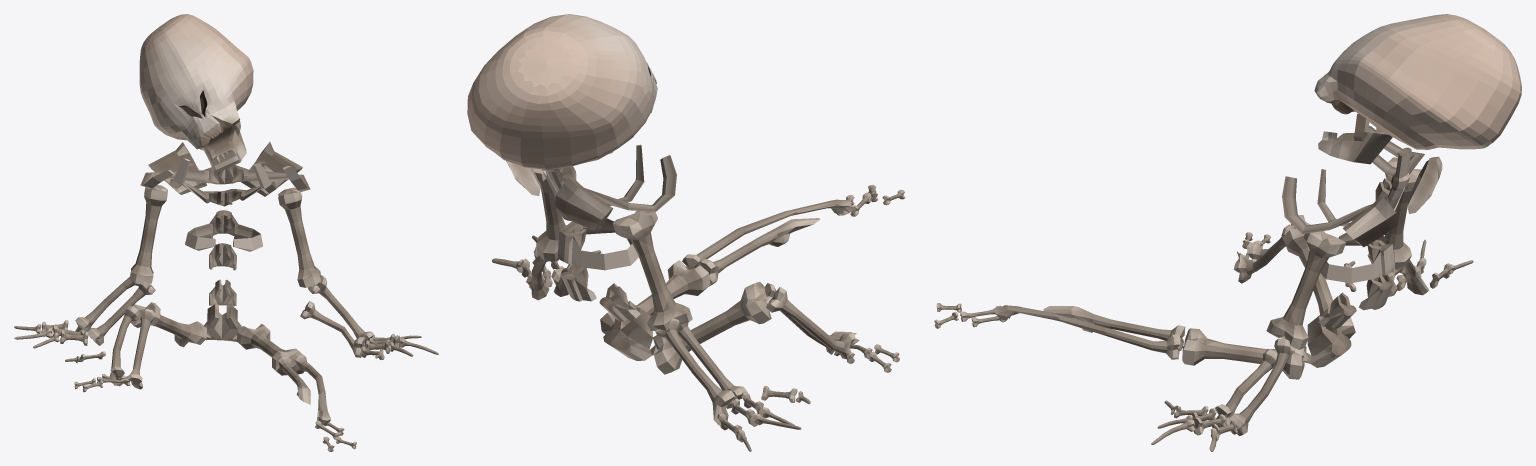
File: squelette.fbx
3 views of the same model, side by side, from view 1: azimuth 30°, elevation 25°; view 2: azimuth 150°, elevation 25°; view 3: azimuth 270°, elevation 25° (orthographic). The views are drawn at different scales.
Visible parts, largest first — view 1: skeleton.030, skeleton.002, skeleton.003; view 2: skeleton.030, skeleton.002; view 3: skeleton.030, skeleton.002, skeleton.003.
Part boxes in pixels (left/top/right/bottom): skeleton.030: left=14, top=124, right=438, bottom=451; skeleton.002: left=139, top=14, right=253, bottom=149; skeleton.003: left=200, top=121, right=246, bottom=172; skeleton.030: left=492, top=144, right=905, bottom=451; skeleton.002: left=467, top=14, right=657, bottom=169; skeleton.030: left=934, top=125, right=1473, bottom=451; skeleton.002: left=1314, top=14, right=1521, bottom=149; skeleton.003: left=1318, top=114, right=1392, bottom=164.
Size of the model in its own units: 683 by 585 by 865.
